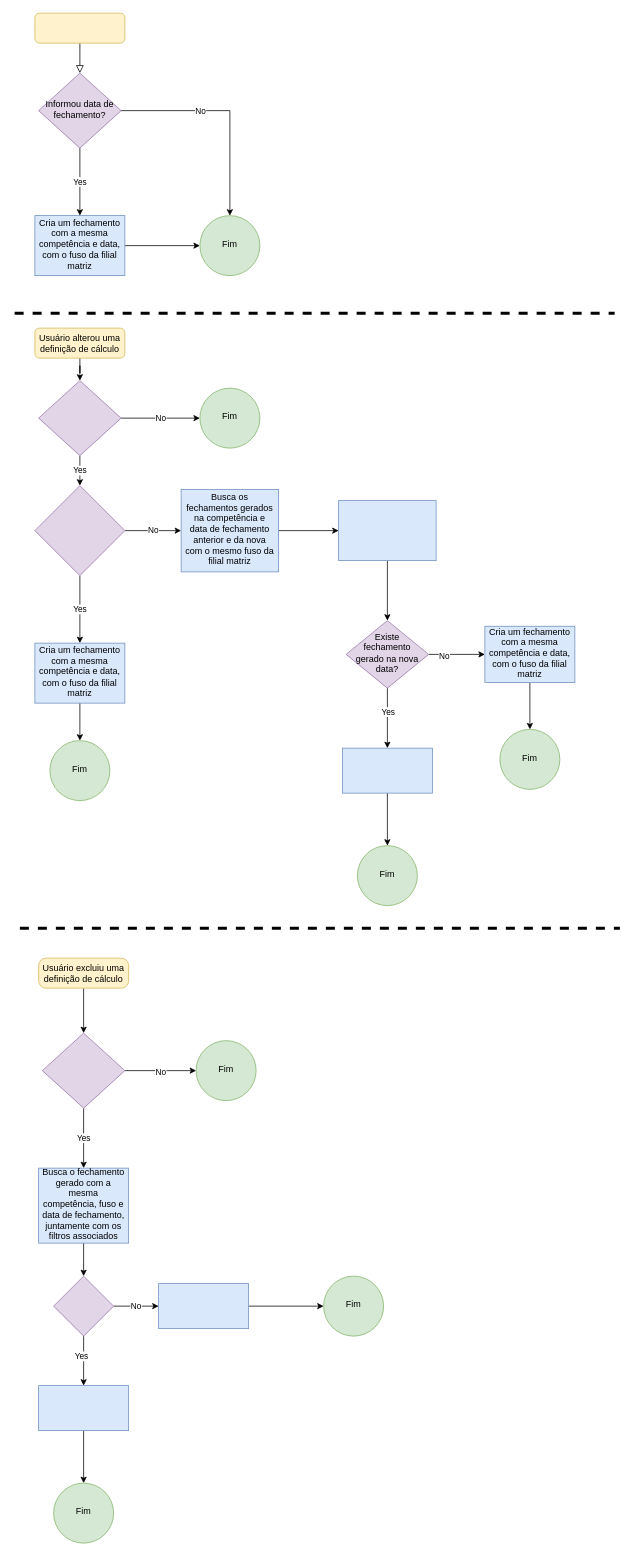
Image size: 635x1556. Some labels were removed from this diagram. The shapes that lost their labels are listed below. From the top down, each one's box as (x1, y1, x2, y2) in pixels, then its label:
(34, 12, 125, 43): Usuário criou uma definição de cálculo
(38, 380, 121, 456): Modificou a data de fechamento?
(34, 485, 125, 576): Data fechamento estava vazia anteriormente?
(338, 500, 436, 561): Exclui o filtro de empresa do fechamento antigo
(342, 747, 432, 793): Adiciona o filtro da empresa no fechamento existente
(42, 1032, 125, 1108): Tem data de fechamento?
(53, 1275, 114, 1336): Filtro é único?
(158, 1283, 249, 1329): Exclui somente o filtro da empresa da definição de cálculo
(38, 1385, 129, 1431): Exclui o filtro e a definição de fechamento
